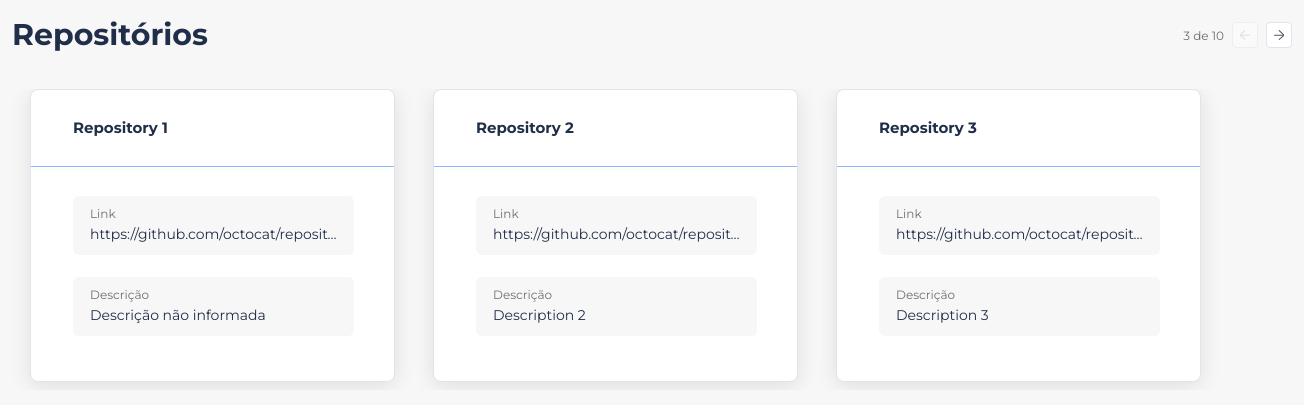
Test case: shows three repositories at a time and pages by three with bounded native controls
This screenshot has width=1304, height=405.
Expected: the text "3 de 10" is shown, [1183,28,1224,42]
Expected: the button named "Repositórios anteriores" is disabled, [1232,22,1258,48]
Click the button named "Próximos repositórios" at (1279, 35), box [1266,22,1292,48]
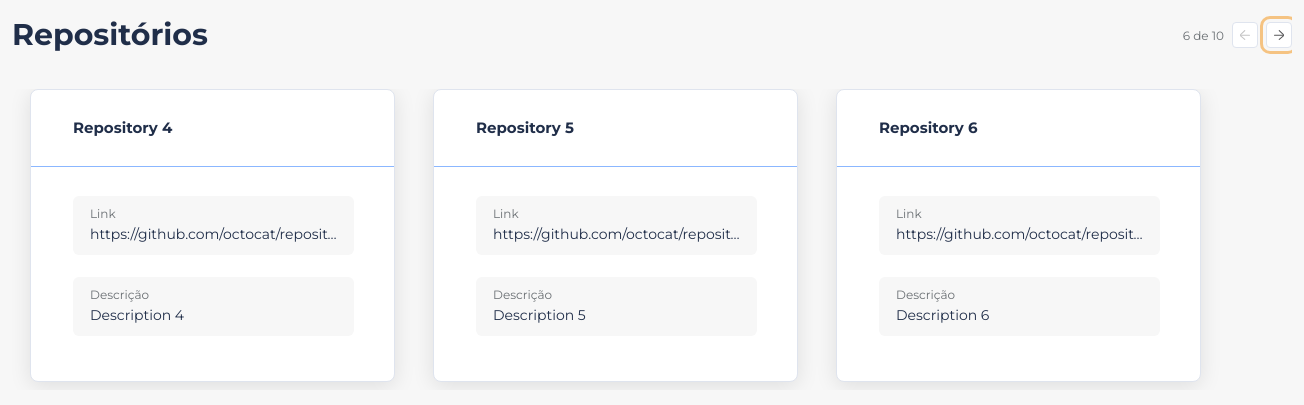
Expected: the text "6 de 10" is shown, [1183,28,1224,42]
Expected: the button "Repository 4" is shown, [30,89,395,382]
Press Enter
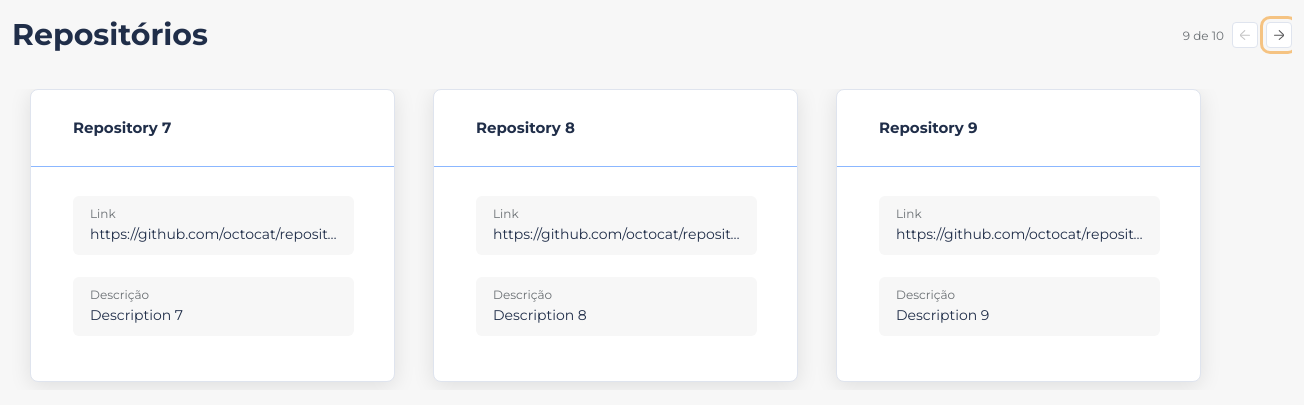
Expected: the text "9 de 10" is shown, [1183,28,1224,42]
Click the button named "Próximos repositórios" at (1279, 35), box [1266,22,1292,48]
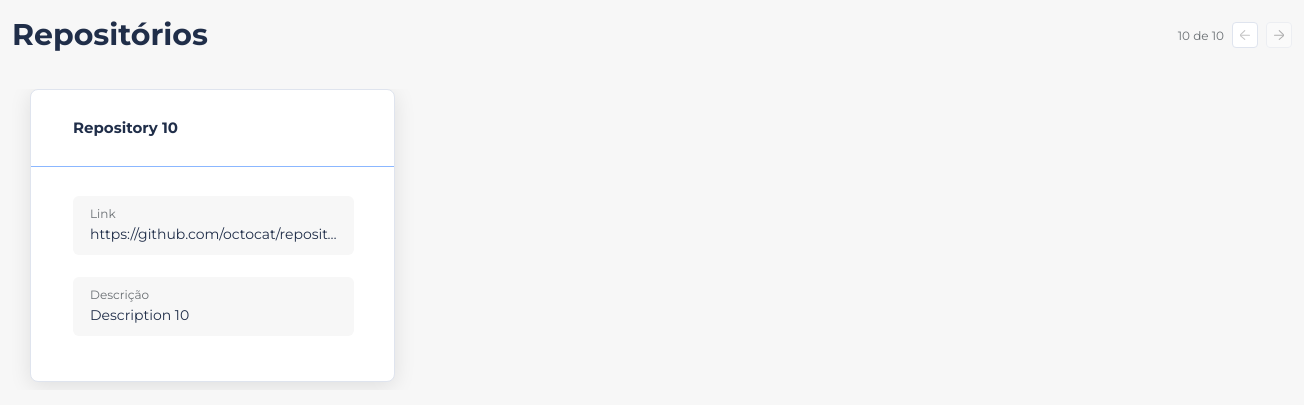
Expected: the text "10 de 10" is shown, [1178,28,1224,42]
Expected: the button named "Próximos repositórios" is disabled, [1266,22,1292,48]
